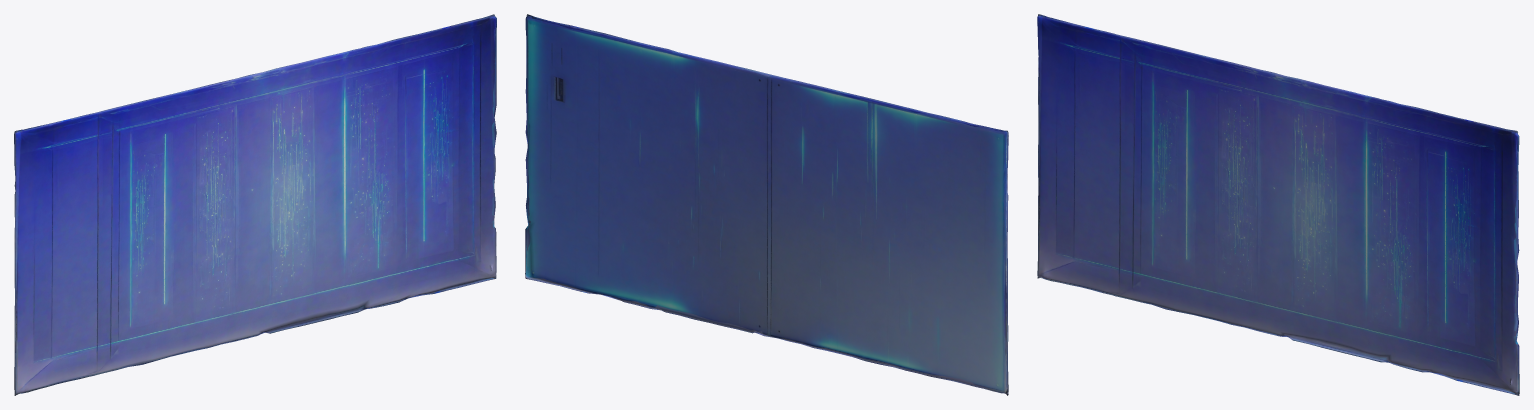
Rendered from 1e2ca545-f40a-4698-b725-74ed691f9aeb.glb.
The picture shows the model from 3 angles, left to right: view 1: azimuth 30°, elevation 25°; view 2: azimuth 150°, elevation 25°; view 3: azimuth 330°, elevation 25°; orthographic projection.
Size of the model in its own units: 2 by 1.05 by 0.021.
Materials: 1 (1 with a texture image).
